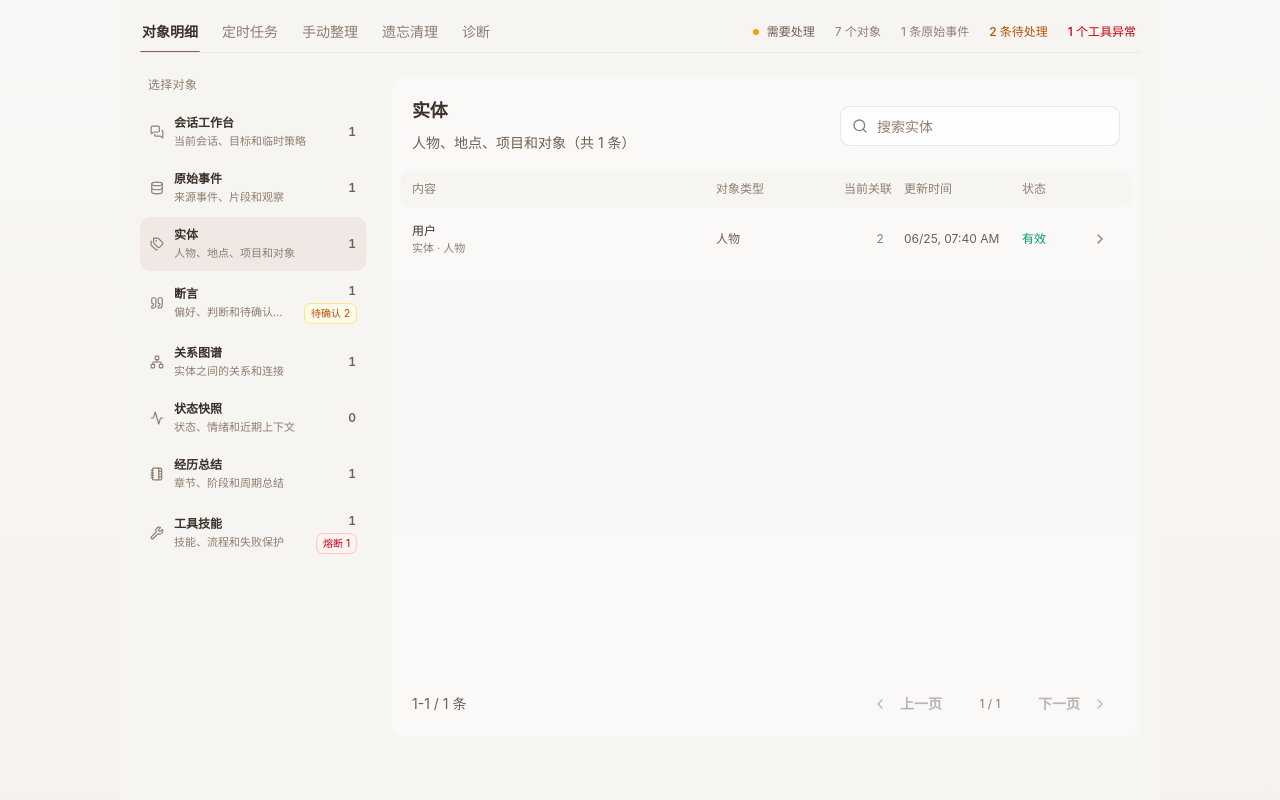
Test: MemoryGovernancePage › shows an old assertion as historical without offering another correction
Step 1. Click the button "断言 偏好、判断和待确认事实 1 待确认 2" → click(253, 303), box [140, 273, 366, 333]
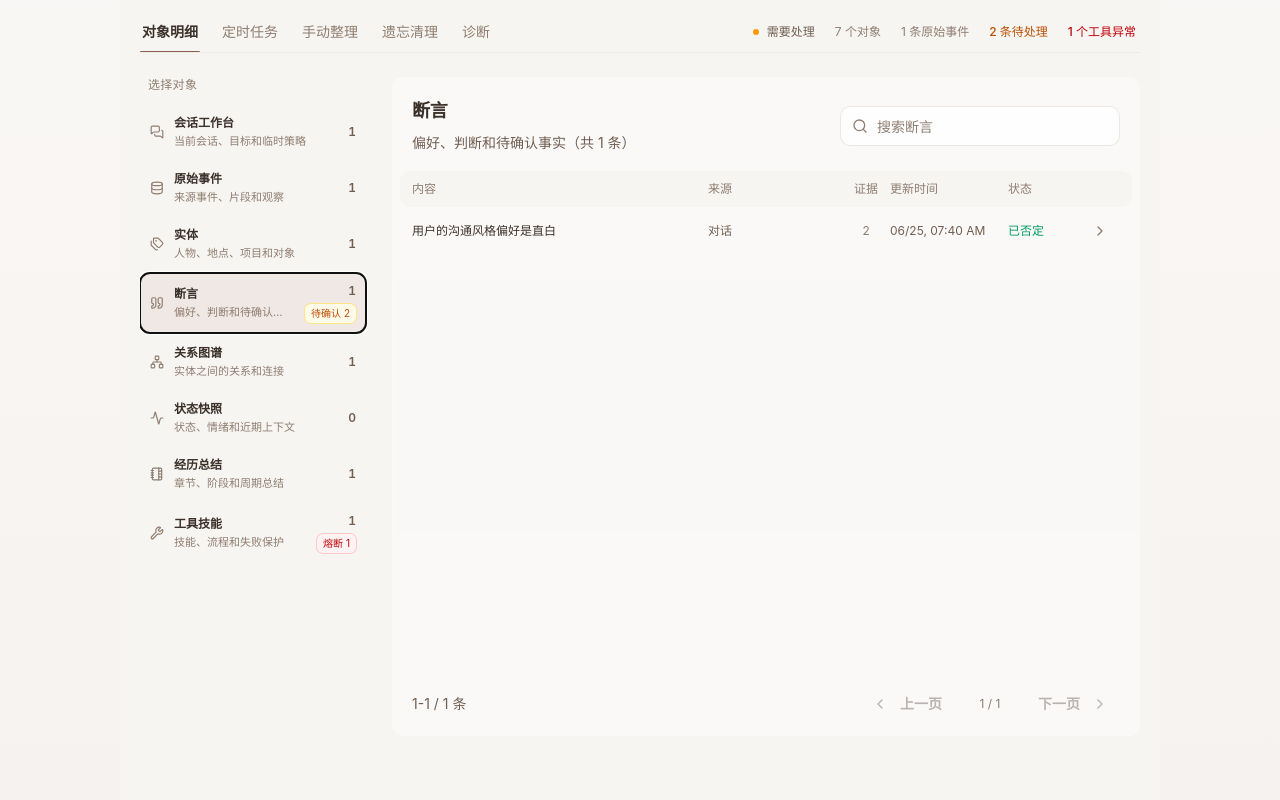
Expected: the button "用户的沟通风格偏好是直白 对话 2 06/25, 07:40 AM 已否定" is shown
Step 2. Click the button "用户的沟通风格偏好是直白 对话 2 06/25, 07:40 AM 已否定" → click(484, 230), box [400, 211, 1132, 251]
(page scrolled)
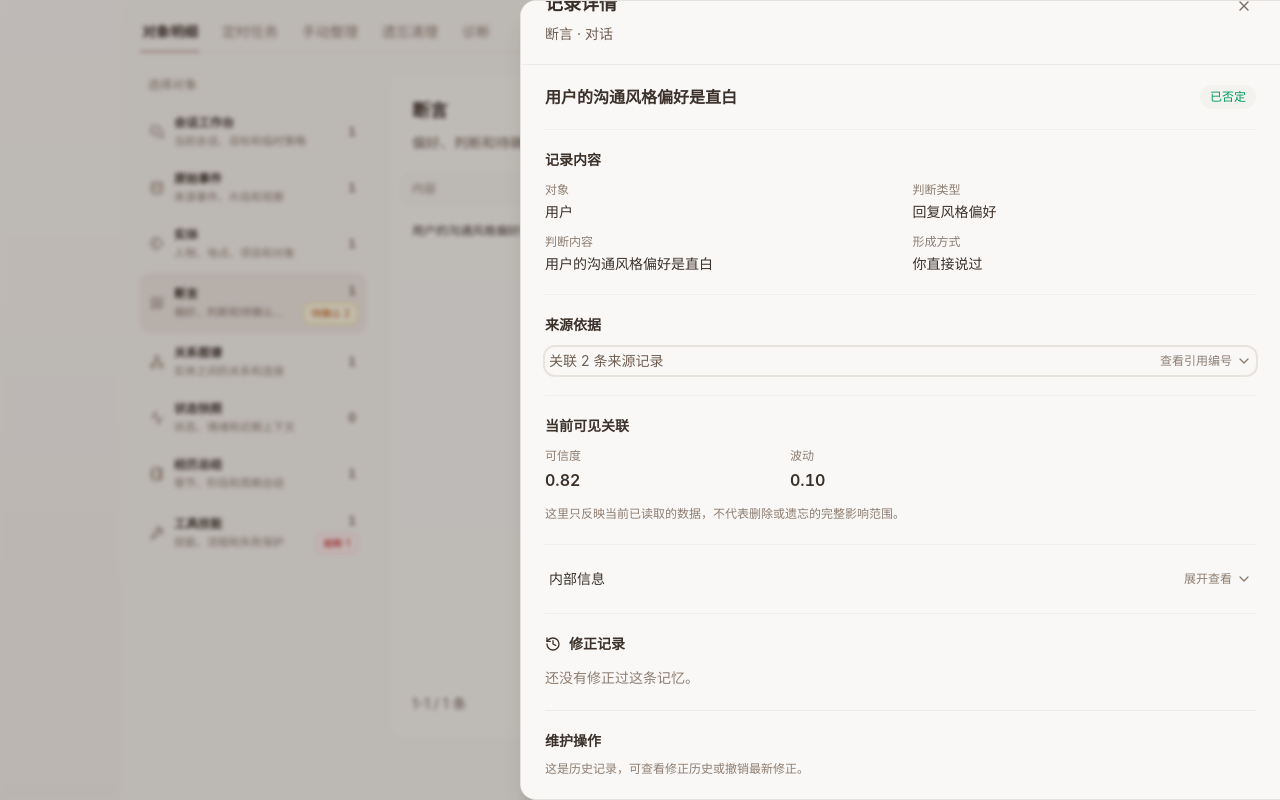
Expected: the text "这是历史记录，可查看修正历史或撤销最新修正。" is shown, [545, 761, 809, 776]
